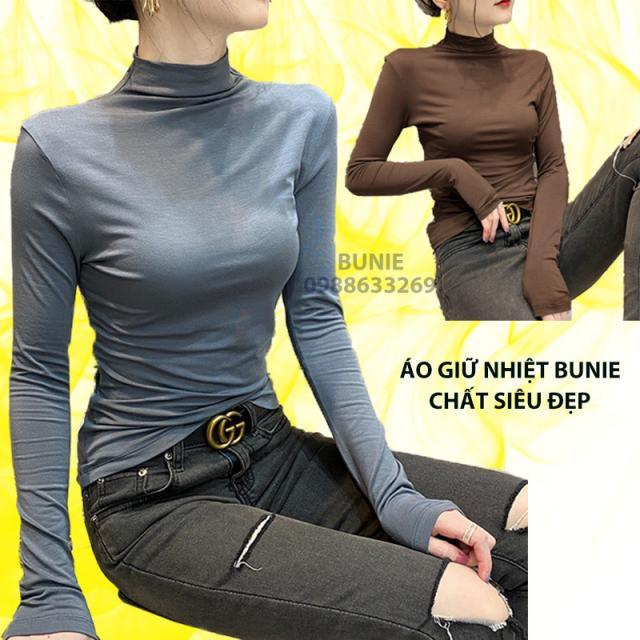Shirt: (0, 46, 467, 640), (344, 26, 578, 320)
